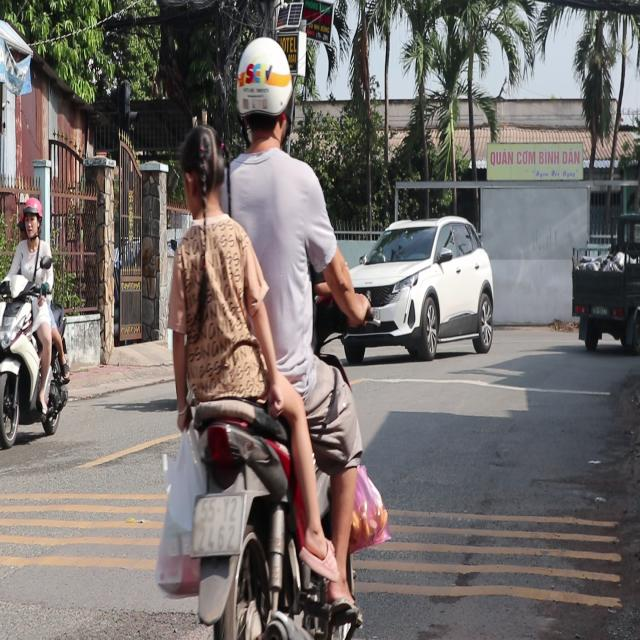helmet: (234, 35, 295, 149), (21, 196, 43, 240)
licenseplate: (153, 32, 385, 630), (0, 194, 71, 448)
motorcyclist: (177, 124, 222, 217)
nohelmet: (193, 493, 243, 552)
